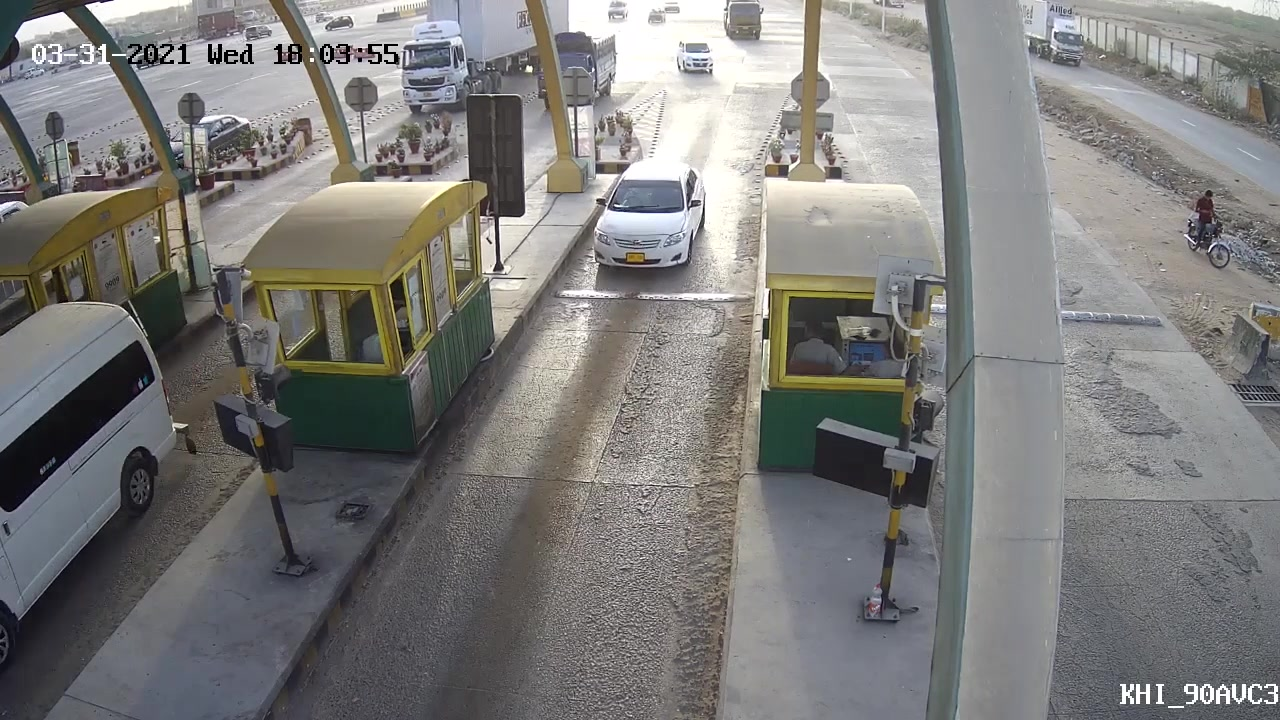F1: (578, 154, 716, 279)
